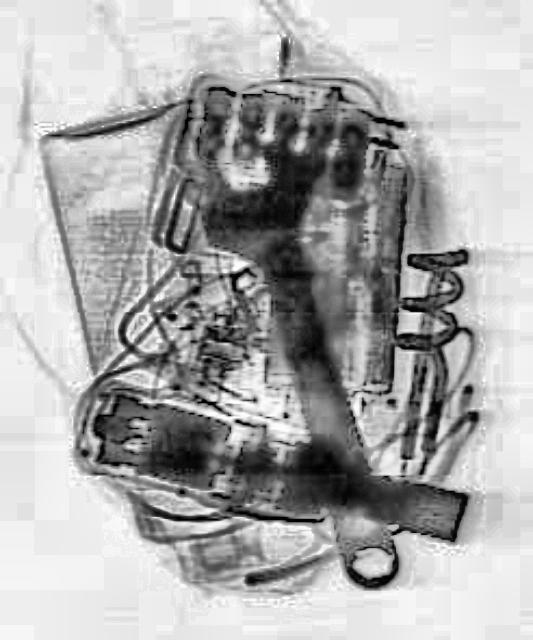Wrench: (181, 118, 435, 608)
